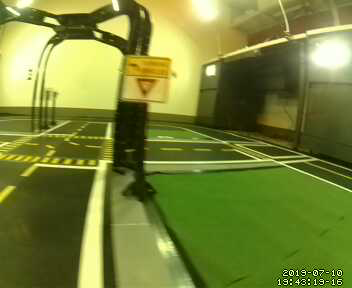Turn Yield: (120, 56, 171, 104)
